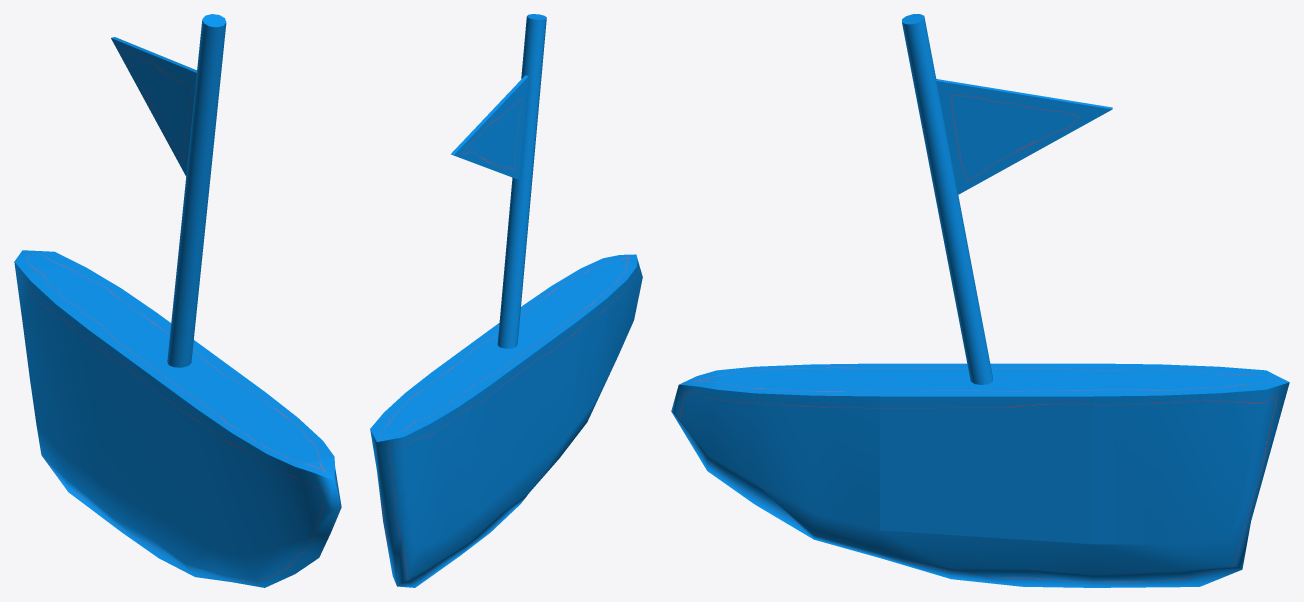
The model's file is ship.fbx.
The picture shows the model from 3 angles, left to right: view 1: azimuth 30°, elevation 25°; view 2: azimuth 150°, elevation 25°; view 3: azimuth 270°, elevation 25°; orthographic projection. The views are drawn at different scales.
Visible parts, largest first — view 1: pCylinder3; view 2: pCylinder3; view 3: pCylinder3.
Boxes of the visible parts, bbox=[...] form: pCylinder3: bbox=[14, 14, 341, 587]; pCylinder3: bbox=[370, 14, 642, 587]; pCylinder3: bbox=[671, 14, 1289, 587].
Bounding box in the file's own units: 0.326 × 2.63 × 2.59.
